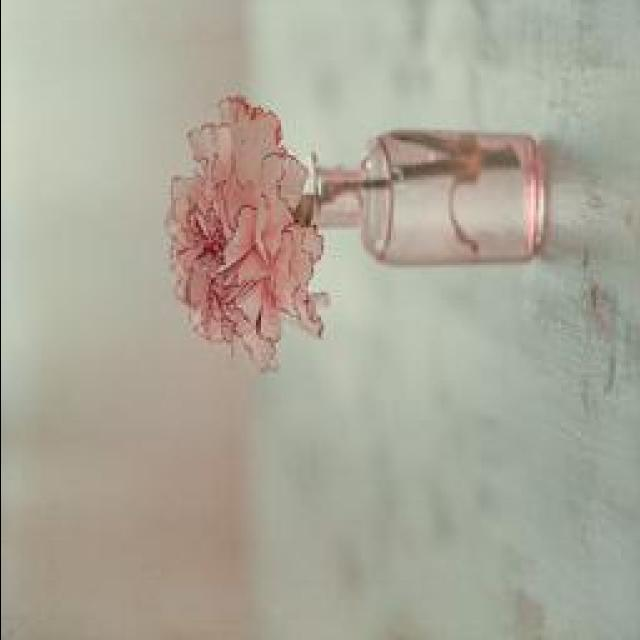carnation: (156, 88, 334, 378)
